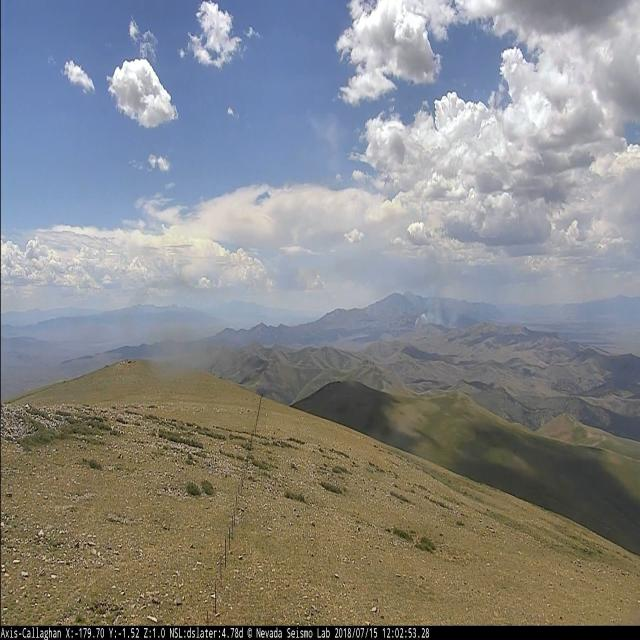smoke: (416, 289, 456, 331)
